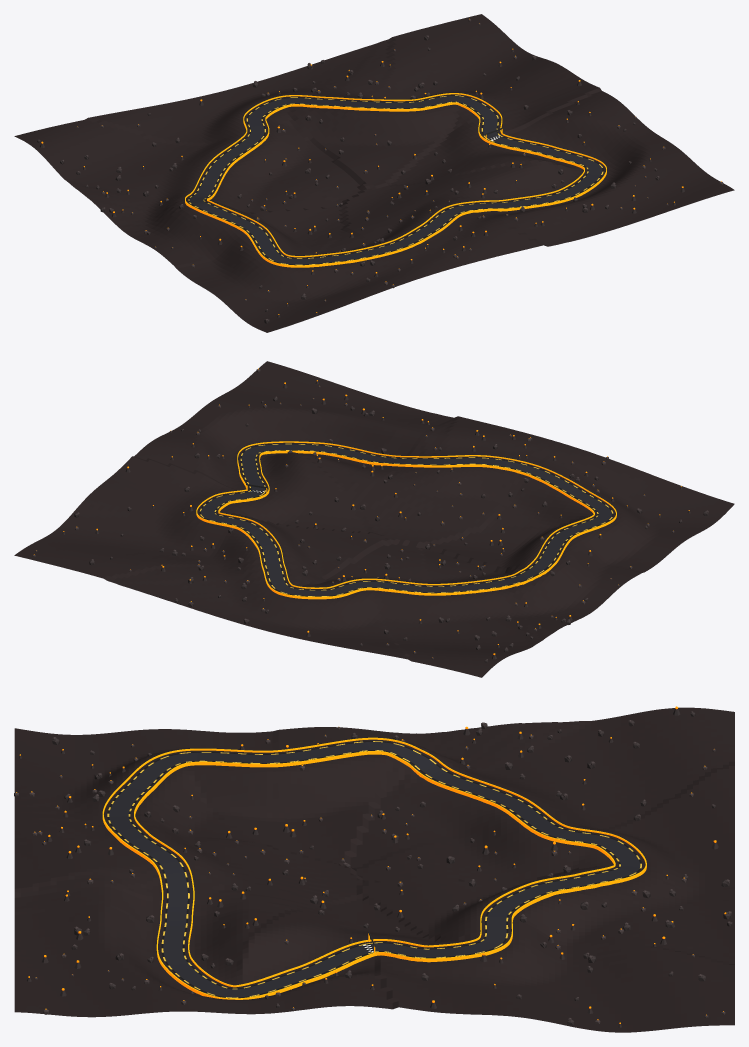
The model's file is level_5.glb.
3 renders of one model, top to bottom at view 1: azimuth 30°, elevation 25°; view 2: azimuth 150°, elevation 25°; view 3: azimuth 270°, elevation 25°, orthographic. The views are drawn at different scales.
Parts seen in each view (by area): view 1: Terrain, Road, Props_trunk, Wall_L, Wall_R, Shoulder_L, Props_leaf2, Curb_L, Shoulder_R, Curb_R; view 2: Terrain, Road, Props_trunk, Wall_L, Wall_R, Shoulder_L, Props_leaf2, Curb_L, Curb_R, Shoulder_R; view 3: Terrain, Road, Props_trunk, Wall_L, Wall_R, Shoulder_L, Props_leaf2, Shoulder_R, Curb_L, Curb_R, Props_leaf.
Boxes of the visible parts, bbox=[...] form: Terrain: bbox=[14, 14, 734, 332]; Road: bbox=[189, 96, 602, 264]; Props_trunk: bbox=[37, 35, 684, 323]; Wall_L: bbox=[185, 93, 606, 267]; Wall_R: bbox=[207, 102, 584, 257]; Shoulder_L: bbox=[186, 94, 605, 263]; Props_leaf2: bbox=[38, 19, 723, 321]; Curb_L: bbox=[188, 95, 603, 265]; Shoulder_R: bbox=[204, 102, 587, 258]; Curb_R: bbox=[203, 101, 588, 258]; Terrain: bbox=[14, 361, 734, 677]; Road: bbox=[201, 444, 612, 596]; Props_trunk: bbox=[62, 381, 708, 662]; Wall_L: bbox=[196, 441, 616, 599]; Wall_R: bbox=[218, 450, 594, 588]; Shoulder_L: bbox=[197, 442, 615, 595]; Props_leaf2: bbox=[32, 369, 708, 660]; Curb_L: bbox=[199, 443, 613, 596]; Curb_R: bbox=[214, 450, 598, 590]; Shoulder_R: bbox=[215, 452, 597, 589]; Terrain: bbox=[14, 707, 734, 1032]; Road: bbox=[109, 742, 640, 997]; Props_trunk: bbox=[19, 709, 732, 1027]; Wall_L: bbox=[102, 737, 646, 999]; Wall_R: bbox=[134, 751, 615, 987]; Shoulder_L: bbox=[104, 739, 645, 998]; Props_leaf2: bbox=[14, 711, 731, 1023]; Shoulder_R: bbox=[130, 751, 618, 988]; Curb_L: bbox=[107, 741, 641, 998]; Curb_R: bbox=[128, 750, 620, 989]; Props_leaf: bbox=[16, 706, 726, 1023].
Bounding box in the file's own units: 517 × 45.02 × 484.
